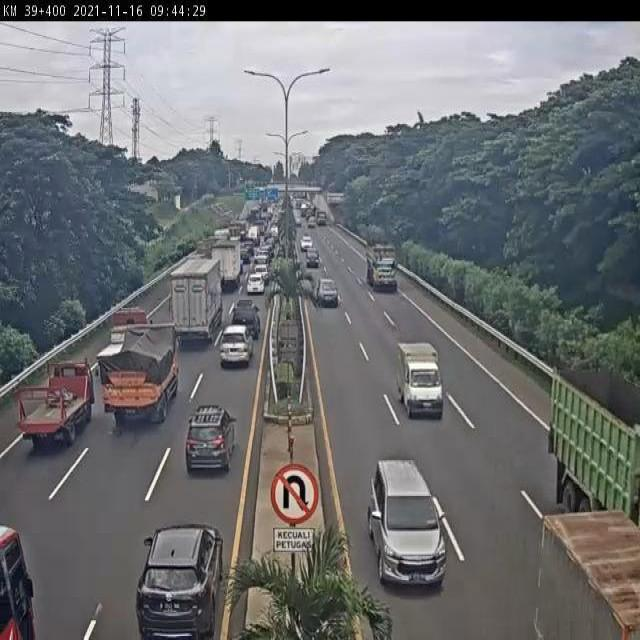car: (367, 459, 447, 585), (136, 524, 223, 637), (184, 407, 235, 477), (218, 329, 250, 372), (231, 302, 259, 342), (318, 279, 339, 305), (246, 274, 265, 294)
small truck: (14, 364, 94, 448), (394, 338, 446, 414), (93, 306, 151, 366)
truck-l-: (553, 372, 640, 557), (167, 262, 218, 346), (364, 246, 398, 294)
truck-m-: (97, 325, 177, 432), (210, 244, 239, 289)
